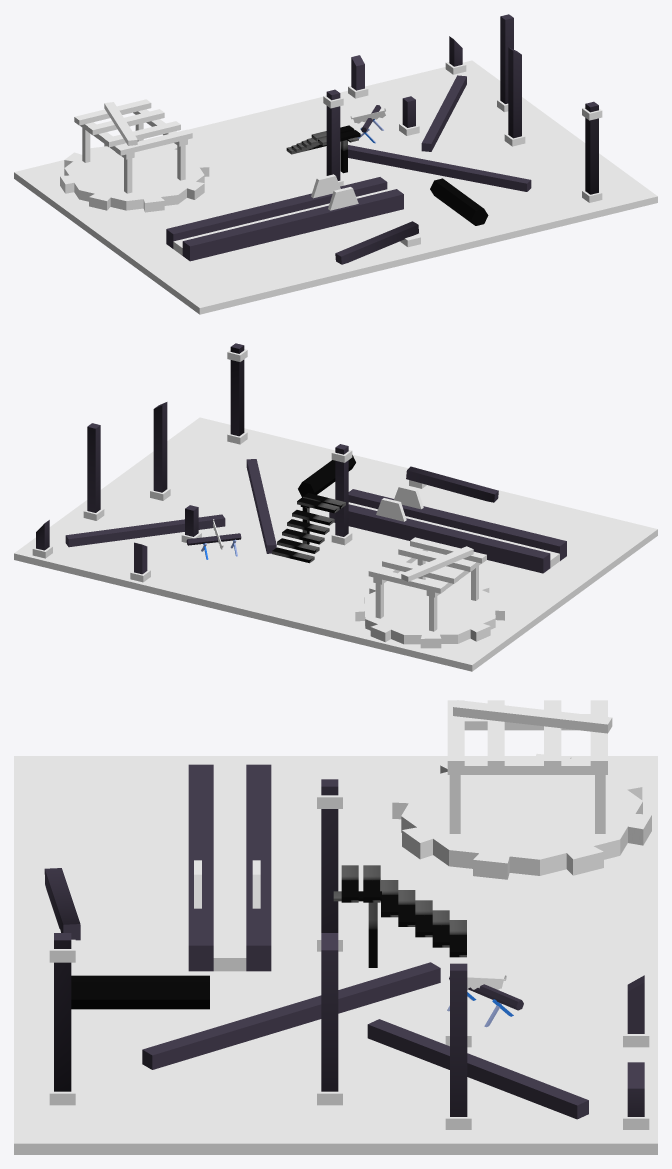
The model's file is LumberMillPhase01.fbx.
The picture shows the model from 3 angles, top to bottom: view 1: azimuth 30°, elevation 25°; view 2: azimuth 150°, elevation 25°; view 3: azimuth 270°, elevation 25°; orthographic projection. The views are drawn at different scales.
Visible parts, largest first — view 1: LumberMillPhase01; view 2: LumberMillPhase01; view 3: LumberMillPhase01.
Boxes of the visible parts, box(x1,y1,x2,y2) form: LumberMillPhase01: box(14, 14, 657, 314); LumberMillPhase01: box(14, 343, 657, 671); LumberMillPhase01: box(14, 700, 657, 1154).
Size of the model in its own units: 10.13 by 2.15 by 7.11.
